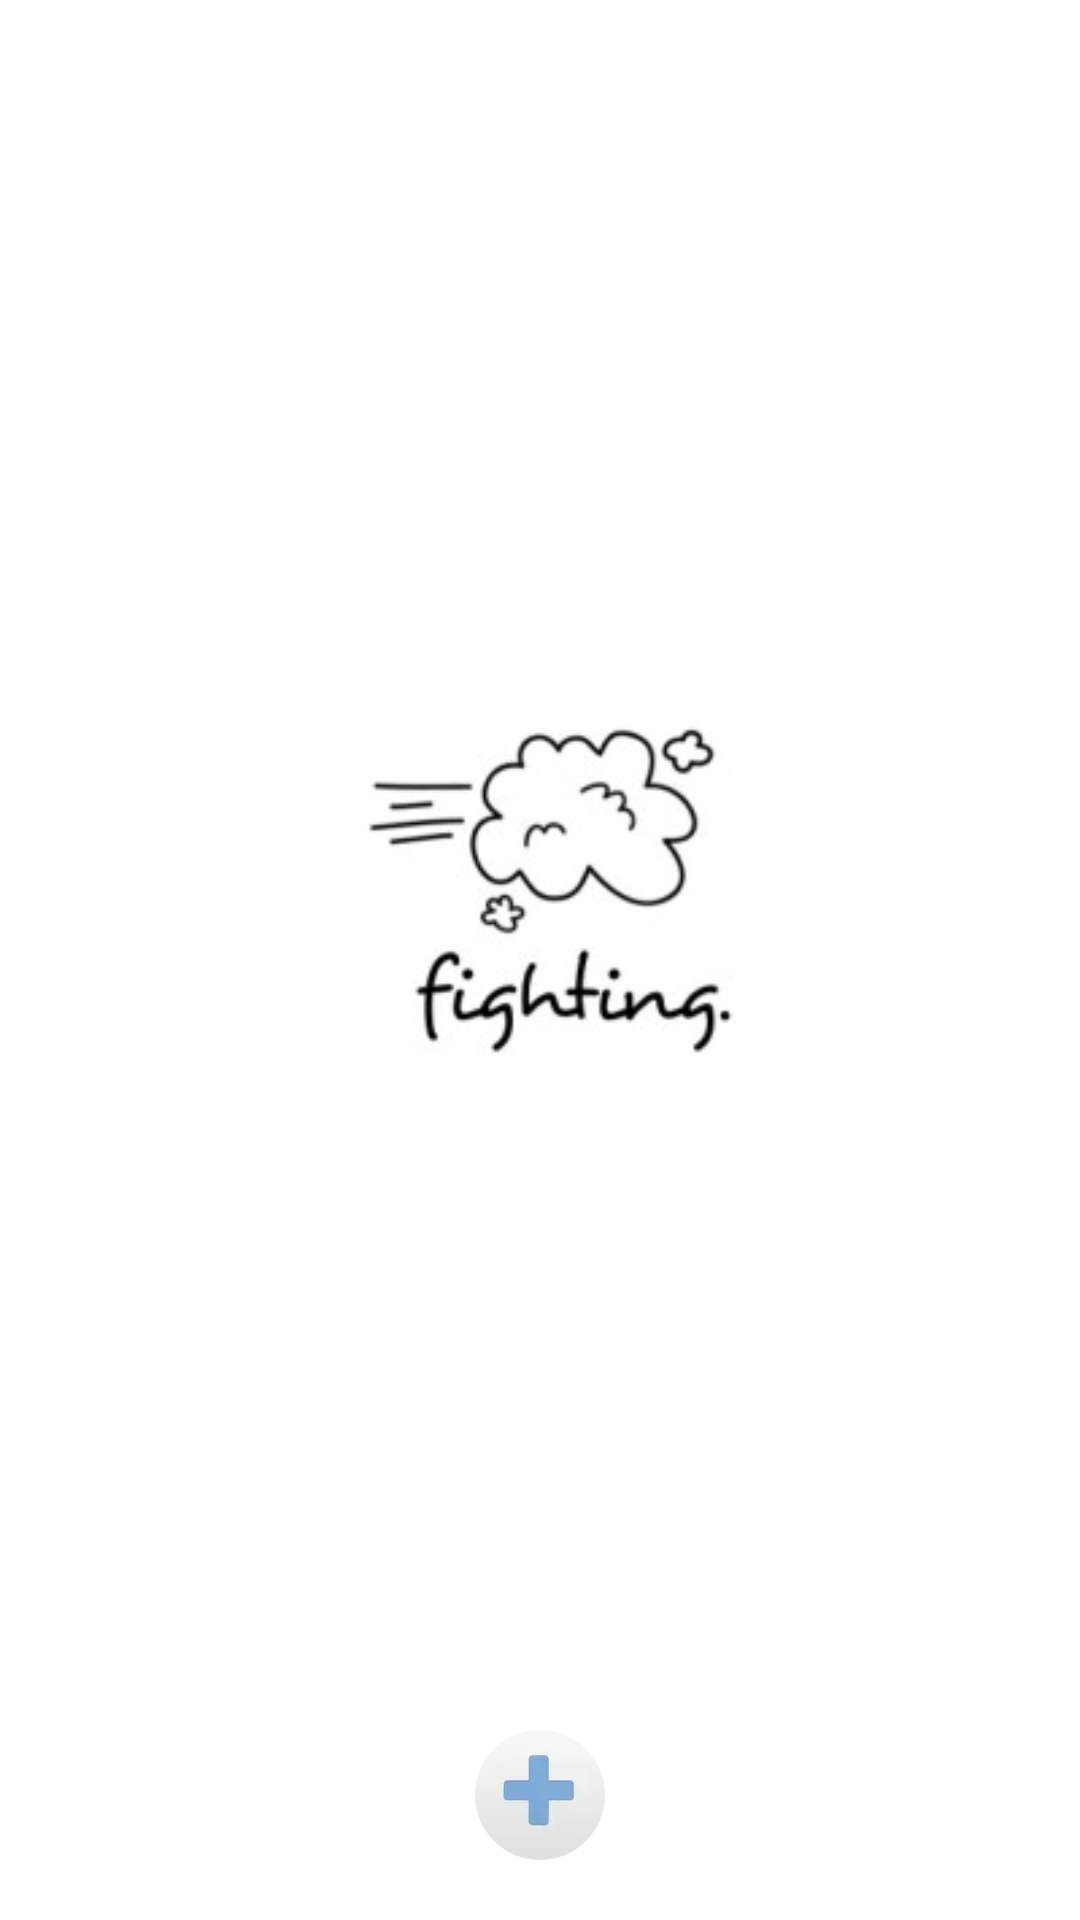

Icon bounding boxes for this 1080x1920 phone screenshot, format (x1, y1, x2, y2):
add: (482, 1755, 598, 1860)
